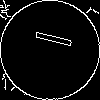I: (25, 25, 73, 51)
